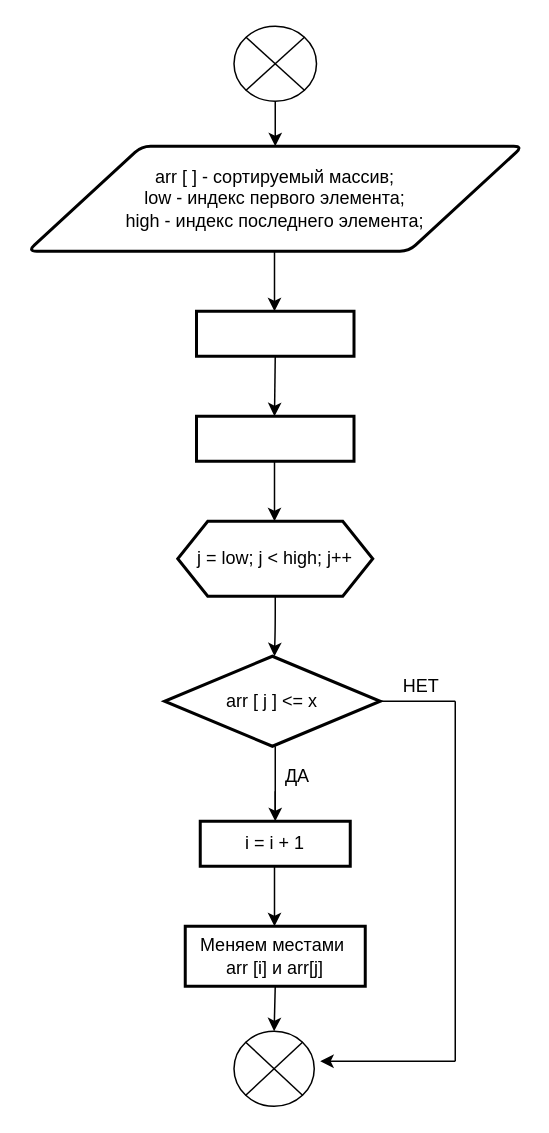
The diagram is 549 pixels wide and 1133 high, and some of its shapes have lost their labels. The shapes that lost their labels are listed below. From the top down, each one's box as (x1, y1, x2, y2) in pixels, then its label:
(194, 309, 355, 357): x = arr [ high]
(194, 414, 355, 462): i = low - 1
